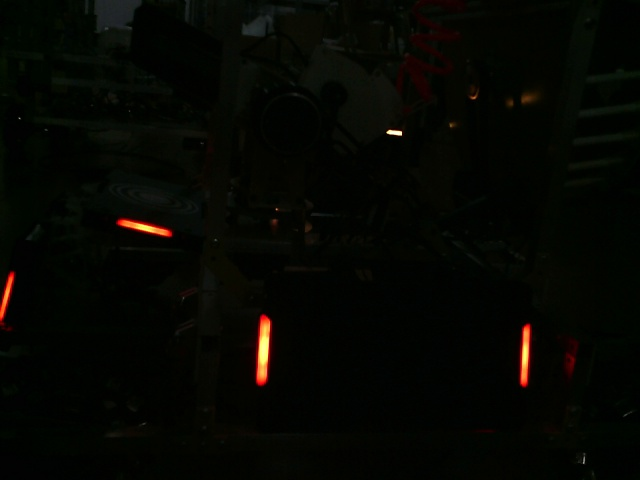lamp: (253, 311, 275, 391), (516, 322, 538, 388), (1, 271, 18, 323)
